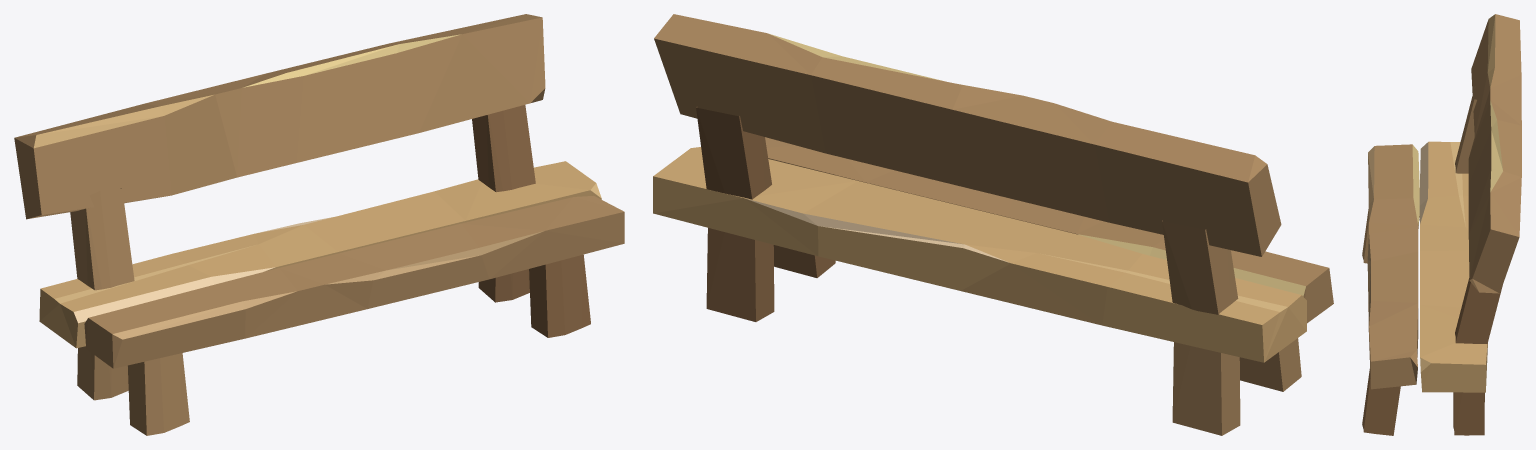
The model's file is EA_M_Furniture_Bench_Wooden_01.fbx.
3 renders of one model, left to right at view 1: azimuth 30°, elevation 25°; view 2: azimuth 150°, elevation 25°; view 3: azimuth 270°, elevation 25°, orthographic. The views are drawn at different scales.
Visible parts, largest first — view 1: EA_M_Furniture_Bench_Wooden_01_LOD0; view 2: EA_M_Furniture_Bench_Wooden_01_LOD0; view 3: EA_M_Furniture_Bench_Wooden_01_LOD0.
Part boxes in pixels (<box>): EA_M_Furniture_Bench_Wooden_01_LOD0: <box>14,14,624,435</box>; EA_M_Furniture_Bench_Wooden_01_LOD0: <box>653,14,1333,435</box>; EA_M_Furniture_Bench_Wooden_01_LOD0: <box>1362,14,1521,435</box>.
Size of what is drawn, in the model's own units: 2.91 by 1.36 by 0.8752.
